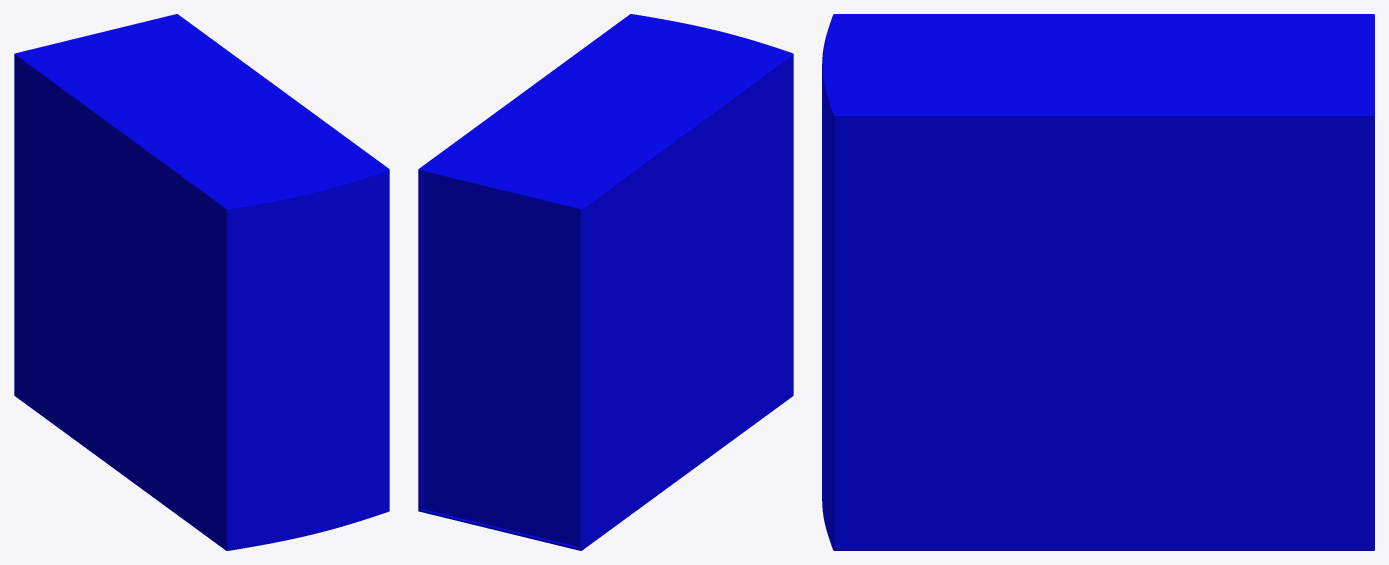
Rendered from computer.dae.
The picture shows the model from 3 angles, left to right: view 1: azimuth 30°, elevation 25°; view 2: azimuth 150°, elevation 25°; view 3: azimuth 270°, elevation 25°; orthographic projection. The views are drawn at different scales.
Visible parts, largest first — view 1: computer; view 2: computer; view 3: computer.
Boxes of the visible parts, x1,y1,x2,y2 form: computer: (14, 14, 389, 550); computer: (418, 14, 793, 550); computer: (822, 14, 1374, 550).
Size of the model in its own units: 0.2502 by 0.5747 by 0.5003.
Materials: 1 (1 with a texture image).
